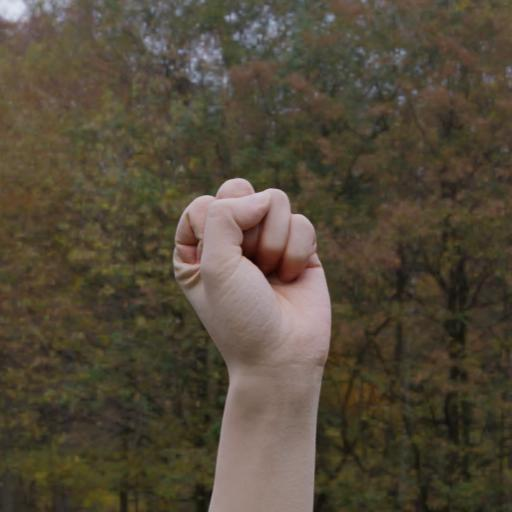S: (156, 164, 363, 378)
